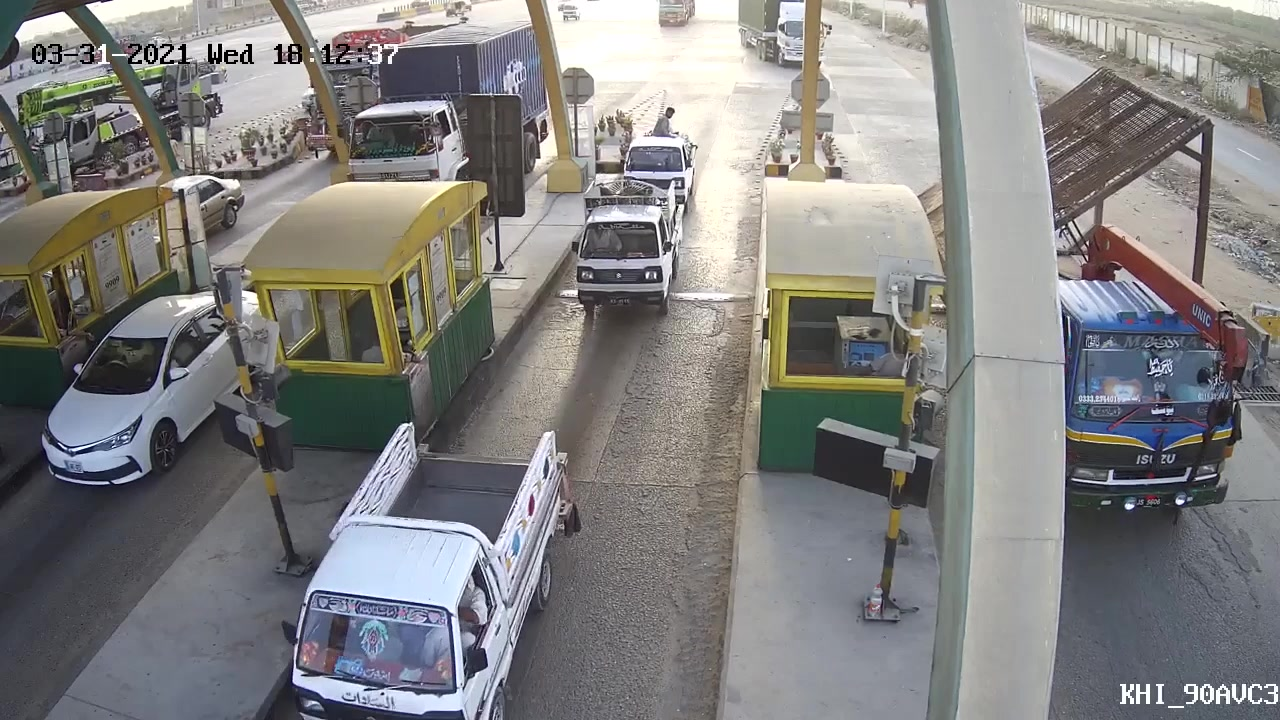F1: (564, 194, 692, 327)
